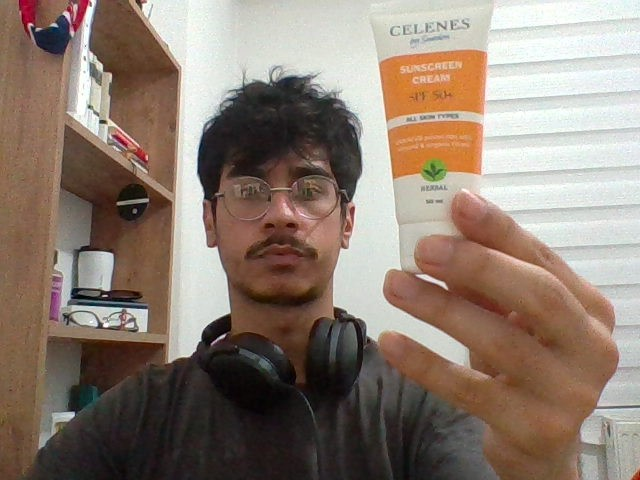CelenesSunCream: (368, 1, 498, 257)
